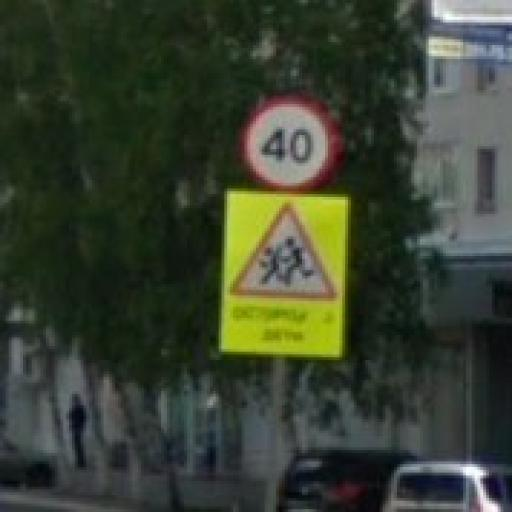traffic_sign: (229, 204, 341, 302), (240, 97, 340, 195)
